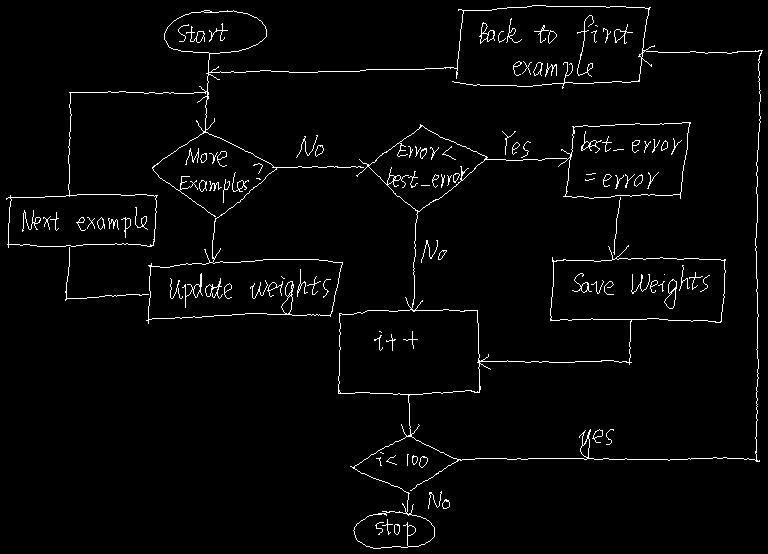arrow: (457, 45, 762, 461), (68, 86, 208, 196), (477, 320, 631, 369), (65, 247, 148, 300), (206, 66, 457, 79), (405, 210, 422, 311), (272, 159, 369, 176), (484, 149, 571, 166), (196, 54, 214, 132), (608, 197, 628, 259), (401, 395, 419, 436), (204, 218, 220, 262), (402, 492, 413, 515)
decision: (152, 131, 276, 218), (367, 124, 487, 211), (350, 435, 460, 493)
process: (452, 5, 650, 86), (147, 259, 342, 323), (338, 309, 480, 394), (550, 257, 725, 322), (563, 122, 690, 198), (6, 194, 157, 247), (145, 319, 148, 322)
terminator: (164, 10, 266, 53), (353, 511, 434, 548)
text: (479, 15, 632, 88), (170, 269, 330, 314), (572, 265, 709, 308), (581, 131, 681, 188), (180, 148, 262, 202), (22, 207, 147, 237), (386, 143, 468, 187), (375, 519, 415, 545), (579, 429, 613, 457), (178, 23, 227, 42), (374, 331, 417, 350), (376, 452, 427, 467), (502, 131, 530, 157), (296, 135, 323, 157), (421, 240, 446, 262), (428, 491, 449, 508), (378, 511, 394, 514)
